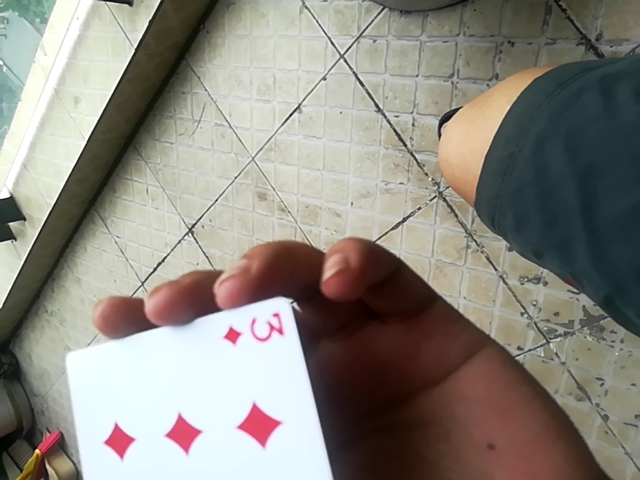fk 3: (59, 292, 336, 480)
